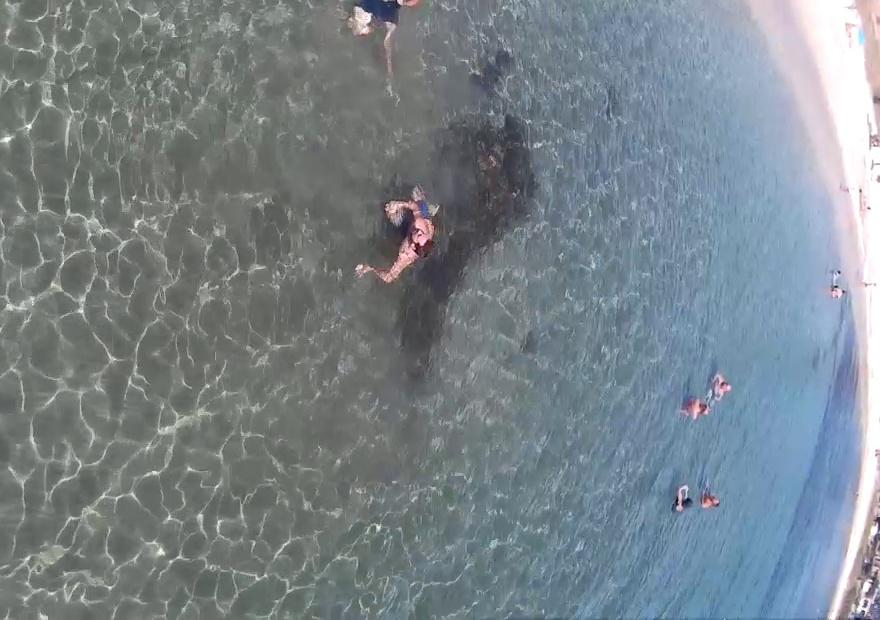human: (336, 181, 441, 312), (336, 0, 426, 121), (706, 353, 746, 407), (673, 388, 712, 431), (688, 476, 727, 514), (674, 472, 697, 520)
